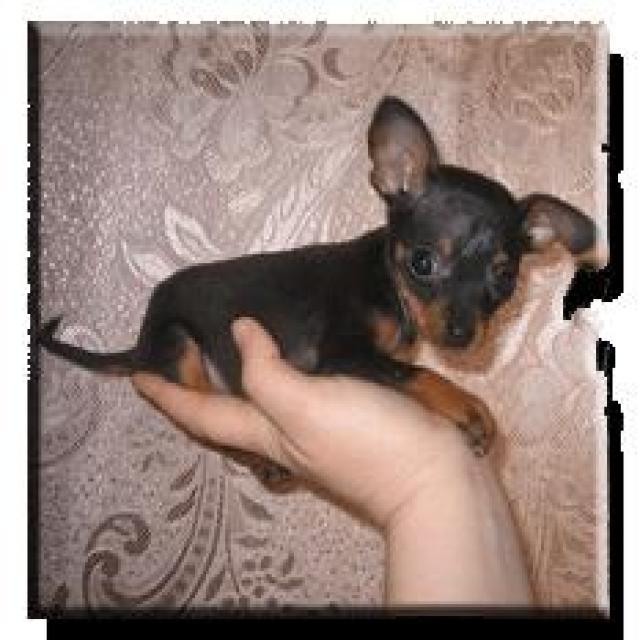toy_terrier: (39, 92, 598, 466)
